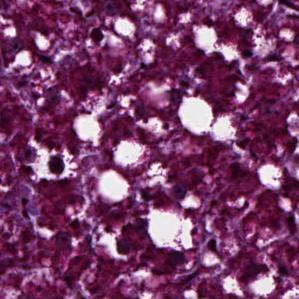steatosis: (177, 95, 213, 136), (95, 166, 130, 203), (73, 108, 102, 146), (114, 138, 145, 166)
